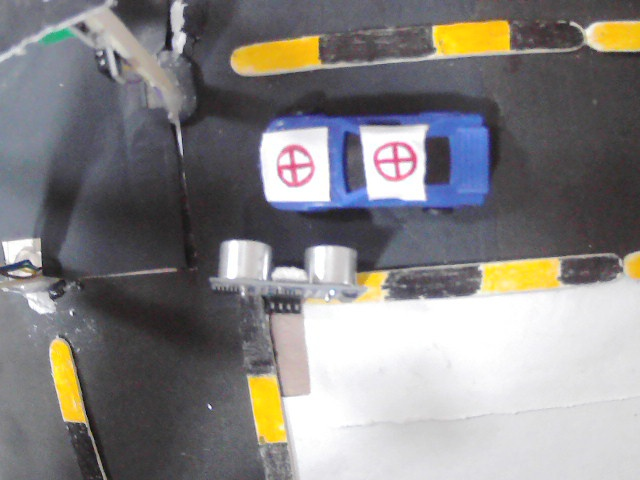emergency_vehicle: (257, 106, 494, 219)
uno_breadboard: (203, 237, 369, 317)
